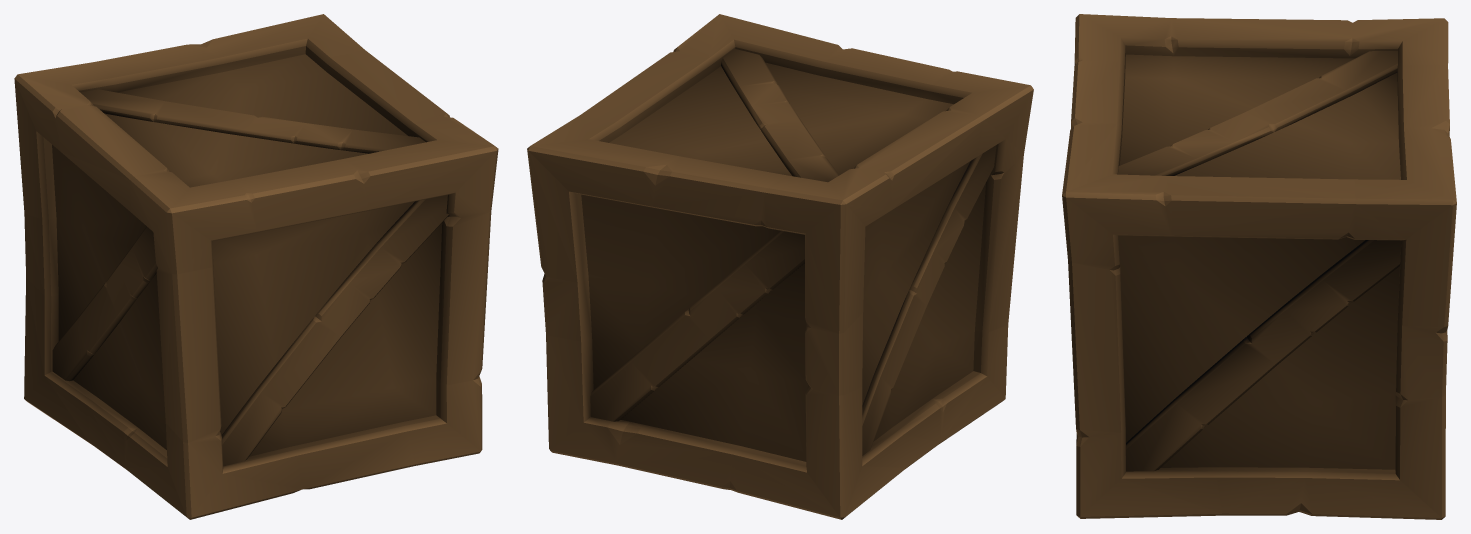
The model's file is obj_crate.FBX.
The picture shows the model from 3 angles, left to right: view 1: azimuth 30°, elevation 25°; view 2: azimuth 150°, elevation 25°; view 3: azimuth 270°, elevation 25°; orthographic projection. The views are drawn at different scales.
Parts seen in each view (by area): view 1: obj_crate; view 2: obj_crate; view 3: obj_crate.
Part boxes in pixels (x1,y1,x2,y2): obj_crate: (14,14,498,519); obj_crate: (527,14,1033,519); obj_crate: (1062,14,1456,519).
Bounding box in the file's own units: 1.51 × 1.41 × 1.44.
